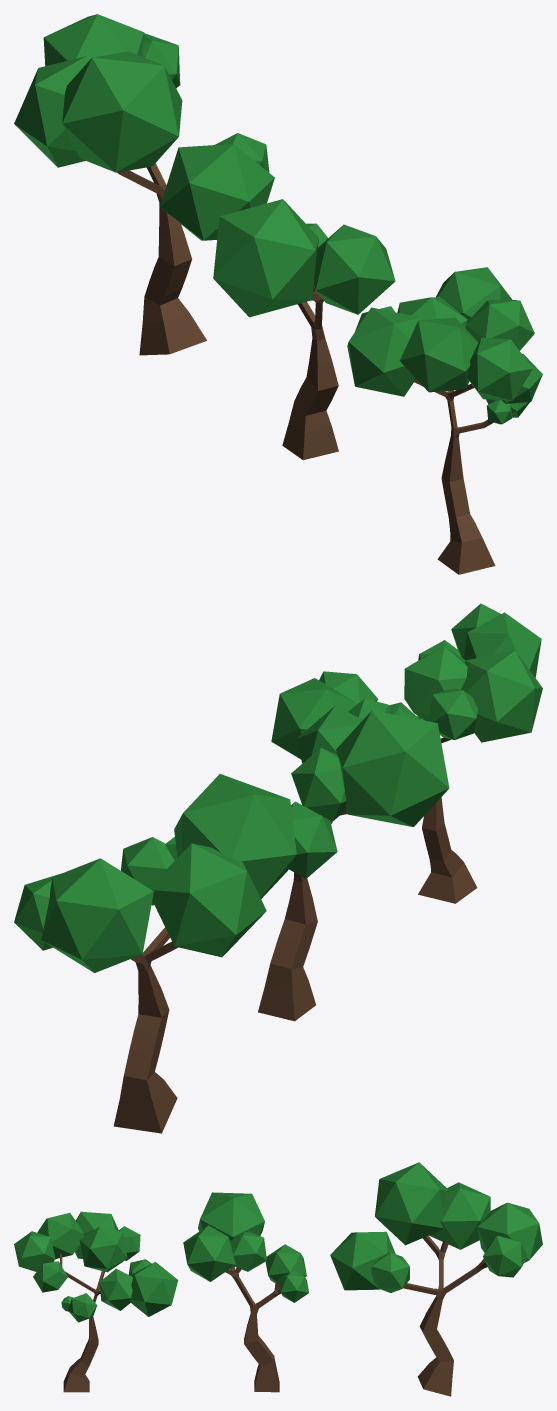
The model's file is LowPolyTrees_Enviroment.glb.
3 views of the same model, one above another, from view 1: azimuth 30°, elevation 25°; view 2: azimuth 150°, elevation 25°; view 3: azimuth 270°, elevation 25° (orthographic). The views are drawn at different scales.
Visible parts, largest first — view 1: Root; view 2: Root; view 3: Root.
Part boxes in pixels (bbox=[...]): Root: bbox=[14, 14, 542, 574]; Root: bbox=[14, 603, 542, 1133]; Root: bbox=[14, 1162, 542, 1396].
Bounding box in the file's own units: 5.69 × 7.63 × 18.16.
